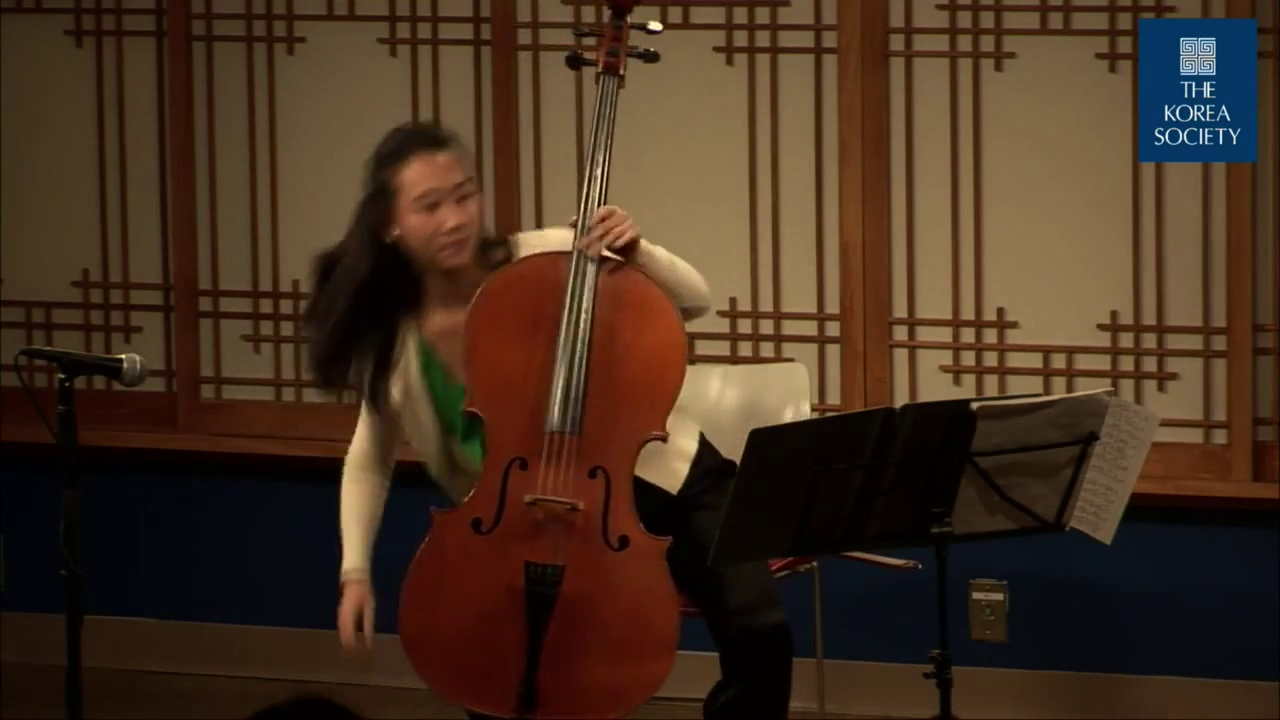person: (303, 121, 793, 720)
